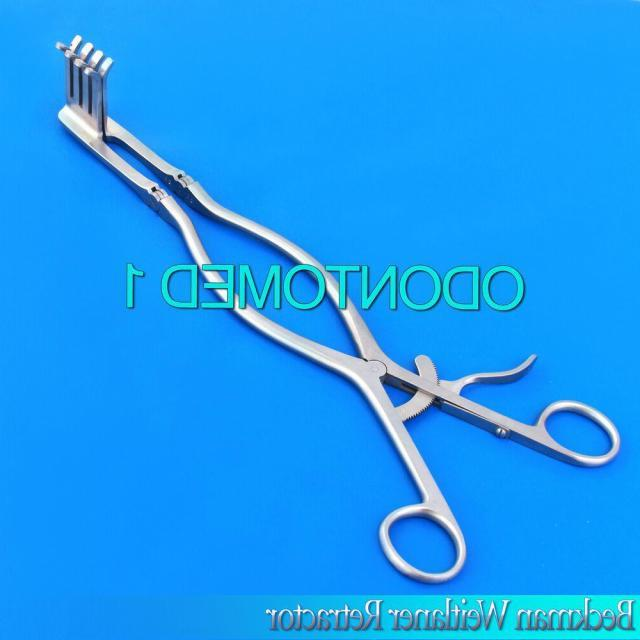Weitlaner: (51, 30, 624, 588)
